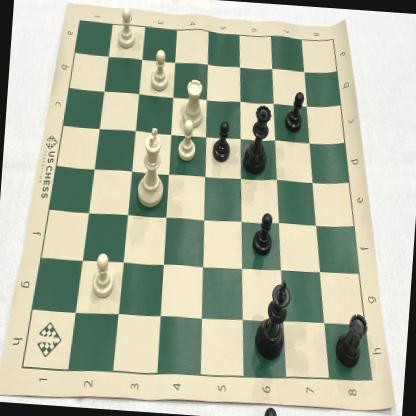black-king: (252, 276, 293, 366)
black-pawn: (250, 210, 276, 259), (284, 89, 306, 135), (212, 119, 234, 165)
black-queen: (241, 100, 274, 178)
black-rook: (332, 312, 370, 374)
white-king: (133, 124, 170, 212)
white-pawn: (89, 252, 117, 303), (173, 116, 199, 165), (147, 46, 173, 94), (114, 6, 139, 52)
white-rook: (178, 76, 208, 132)
